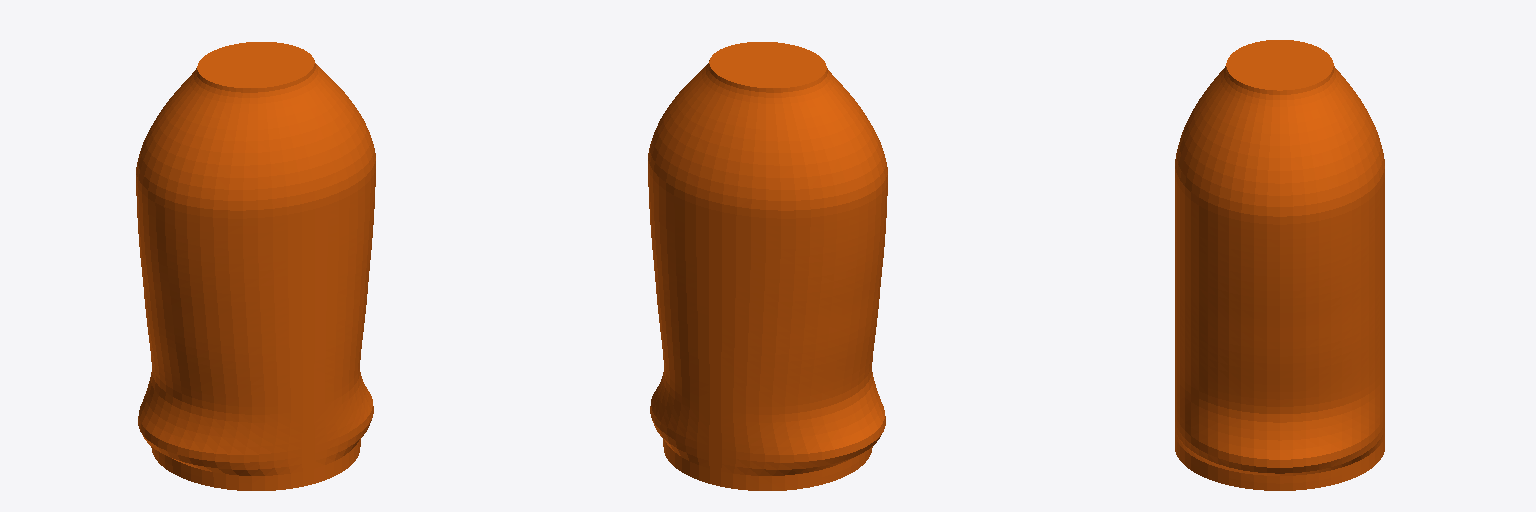
The model's file is lloid.obj.
3 views of the same model, side by side, from view 1: azimuth 30°, elevation 25°; view 2: azimuth 150°, elevation 25°; view 3: azimuth 270°, elevation 25° (orthographic).
Visible parts, largest first — view 1: pCylinder1; view 2: pCylinder1; view 3: pCylinder1.
Part boxes in pixels (bbox=[...]): pCylinder1: bbox=[136, 42, 375, 490]; pCylinder1: bbox=[648, 42, 887, 490]; pCylinder1: bbox=[1175, 40, 1384, 490].
Bounding box in the file's own units: 35.53 × 60 × 29.94.